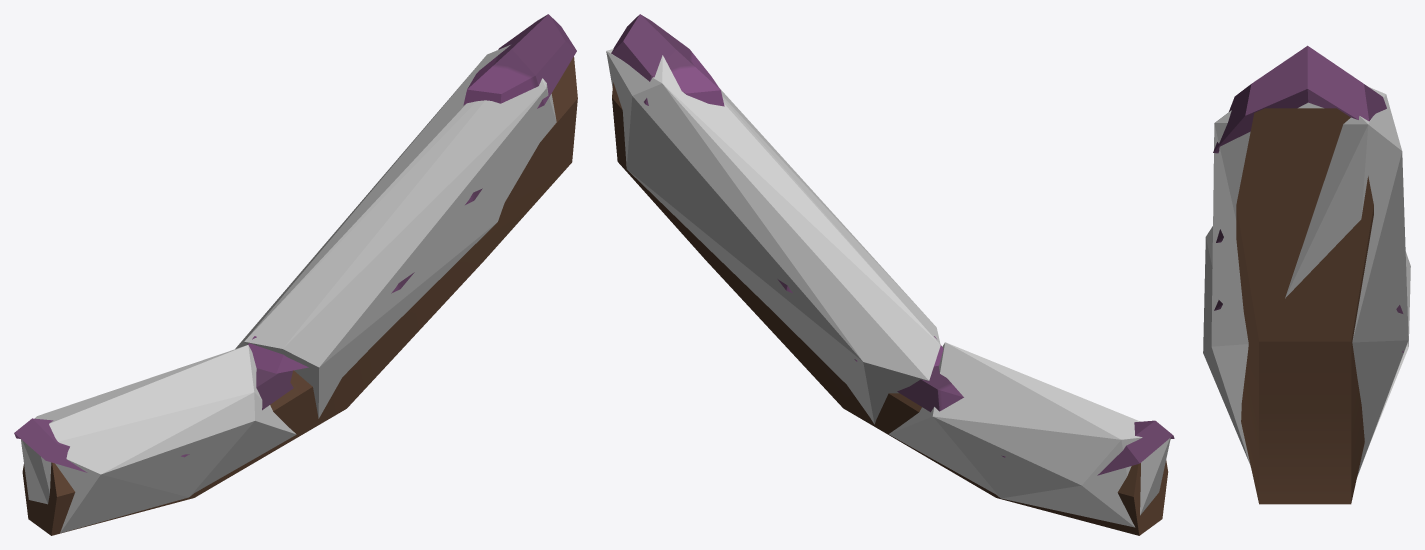
Rendered from SM_Bld_Roof_Cap_Straight_Peak_01.fbx.
3 views of the same model, side by side, from view 1: azimuth 30°, elevation 25°; view 2: azimuth 150°, elevation 25°; view 3: azimuth 270°, elevation 25° (orthographic). The views are drawn at different scales.
Parts seen in each view (by area): view 1: SM_Bld_Roof_Cap_Straight_Peak_01_ConvexHulls, SM_Bld_Roof_Cap_Straight_Peak_01; view 2: SM_Bld_Roof_Cap_Straight_Peak_01_ConvexHulls, SM_Bld_Roof_Cap_Straight_Peak_01; view 3: SM_Bld_Roof_Cap_Straight_Peak_01, SM_Bld_Roof_Cap_Straight_Peak_01_ConvexHulls.
Part boxes in pixels (box(x1,y1,x2,y2)): SM_Bld_Roof_Cap_Straight_Peak_01_ConvexHulls: box(21, 45, 556, 533); SM_Bld_Roof_Cap_Straight_Peak_01: box(14, 14, 577, 535); SM_Bld_Roof_Cap_Straight_Peak_01_ConvexHulls: box(606, 49, 1170, 527); SM_Bld_Roof_Cap_Straight_Peak_01: box(611, 14, 1174, 535); SM_Bld_Roof_Cap_Straight_Peak_01: box(1213, 45, 1403, 504); SM_Bld_Roof_Cap_Straight_Peak_01_ConvexHulls: box(1203, 87, 1410, 477).
Bounding box in the file's own units: 265 × 43.15 × 178.
Materials: 2 (1 with a texture image).
